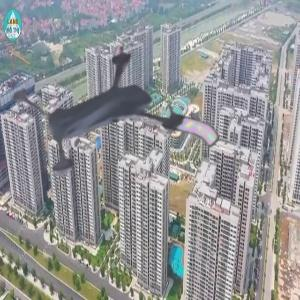drone: (17, 34, 199, 216)
